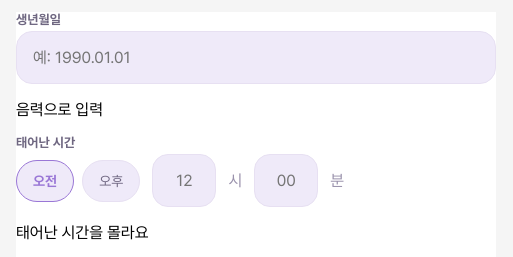
Test: BirthInputs › 숫자를 입력하면 YYYY.MM.DD로 포맷한다(202512 → 2025.12, 배치 보정)
Step 1. Type "202512" into the field labelled "생년월일" → [256, 58], box [16,31,496,84]
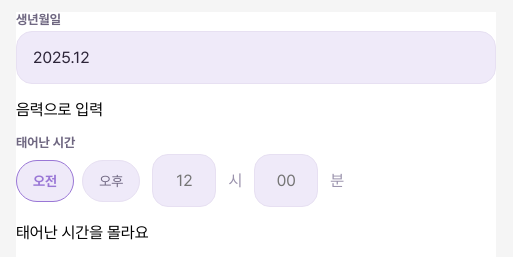
Check: the field labelled "생년월일" holds "2025.12"
Step 2. Replace the text in the field labelled "생년월일" with "19900101" → [256, 58], box [16,31,496,84]
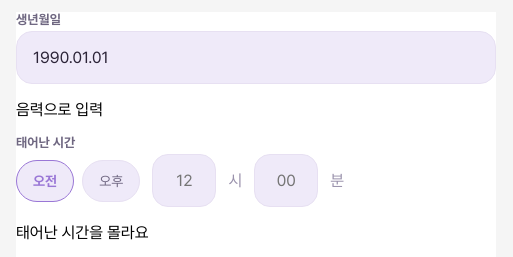
Check: the field labelled "생년월일" holds "1990.01.01", box [16,31,496,84]
